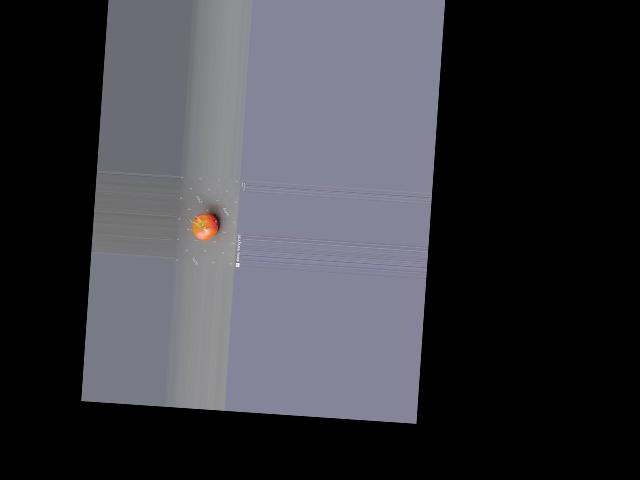tomato: (191, 212, 218, 240)
